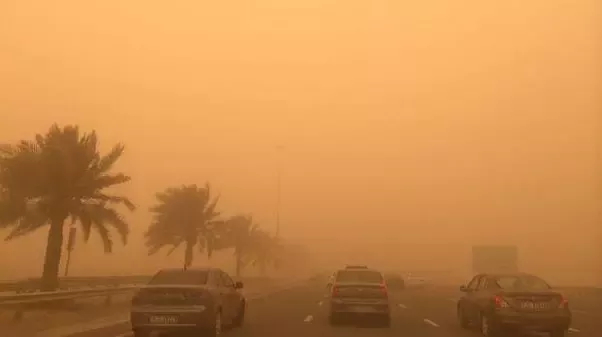car: (128, 269, 238, 336), (454, 272, 569, 336), (326, 266, 388, 320), (405, 272, 426, 288), (386, 272, 405, 288)
